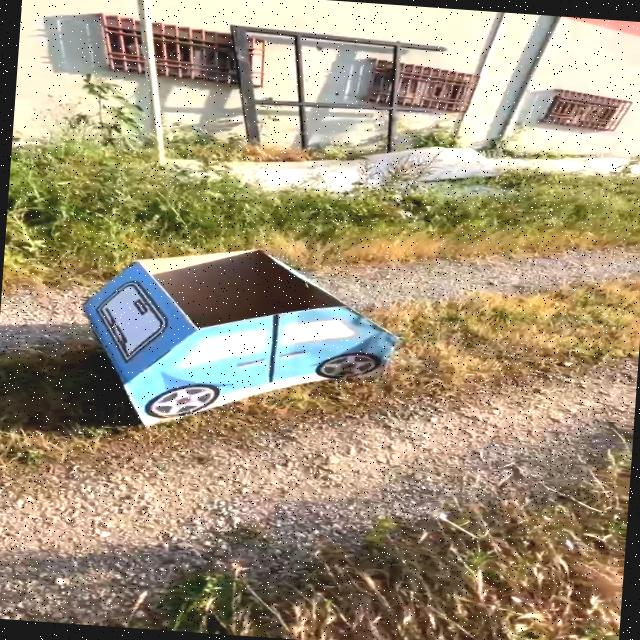blue_car: (33, 220, 434, 462)
